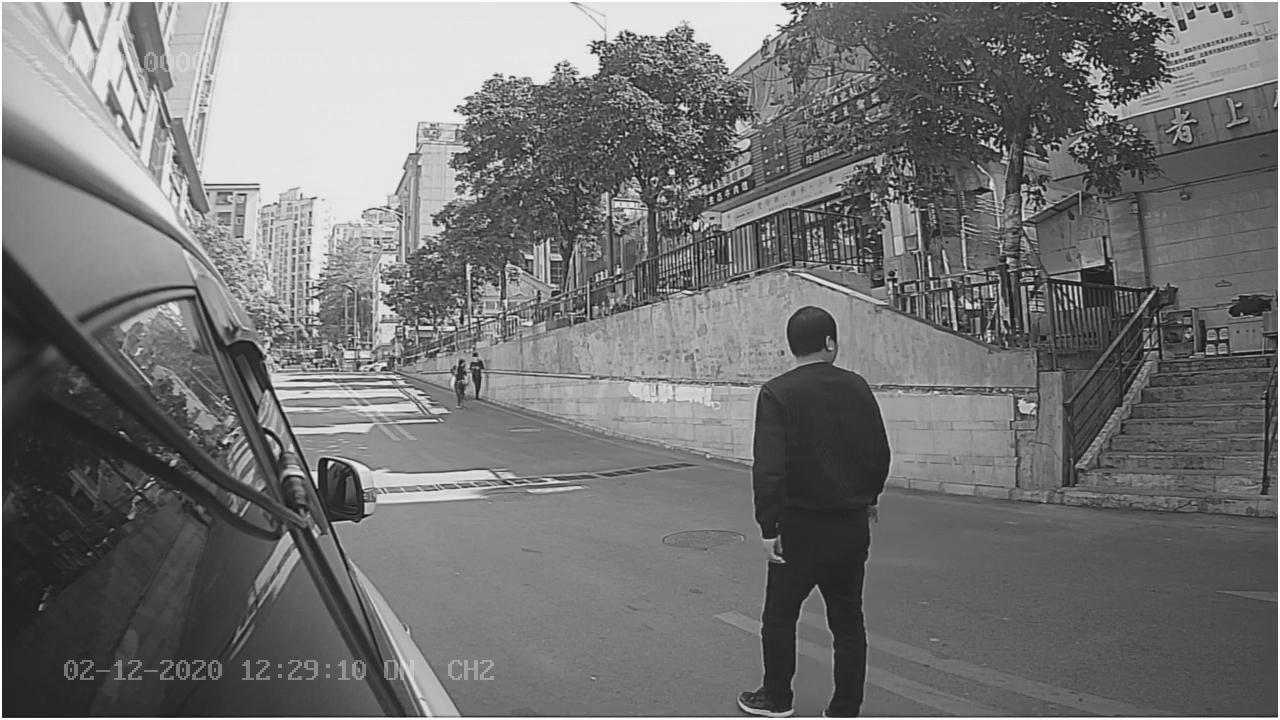person: (719, 299, 895, 678)
